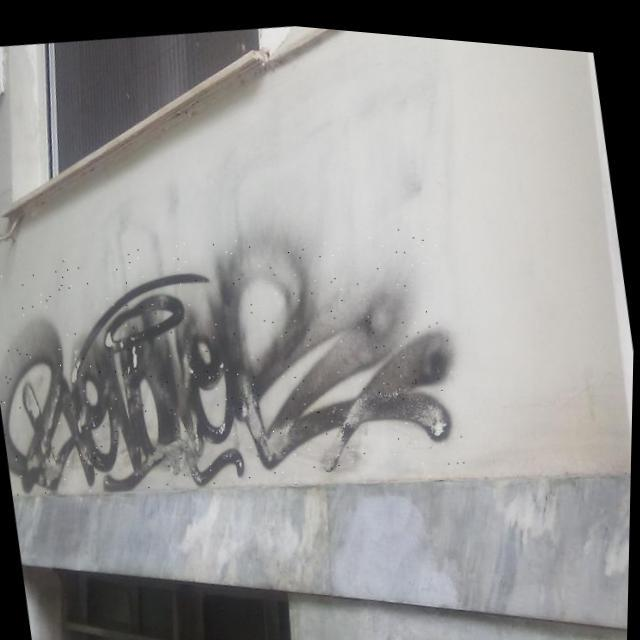-: (0, 185, 474, 530)
